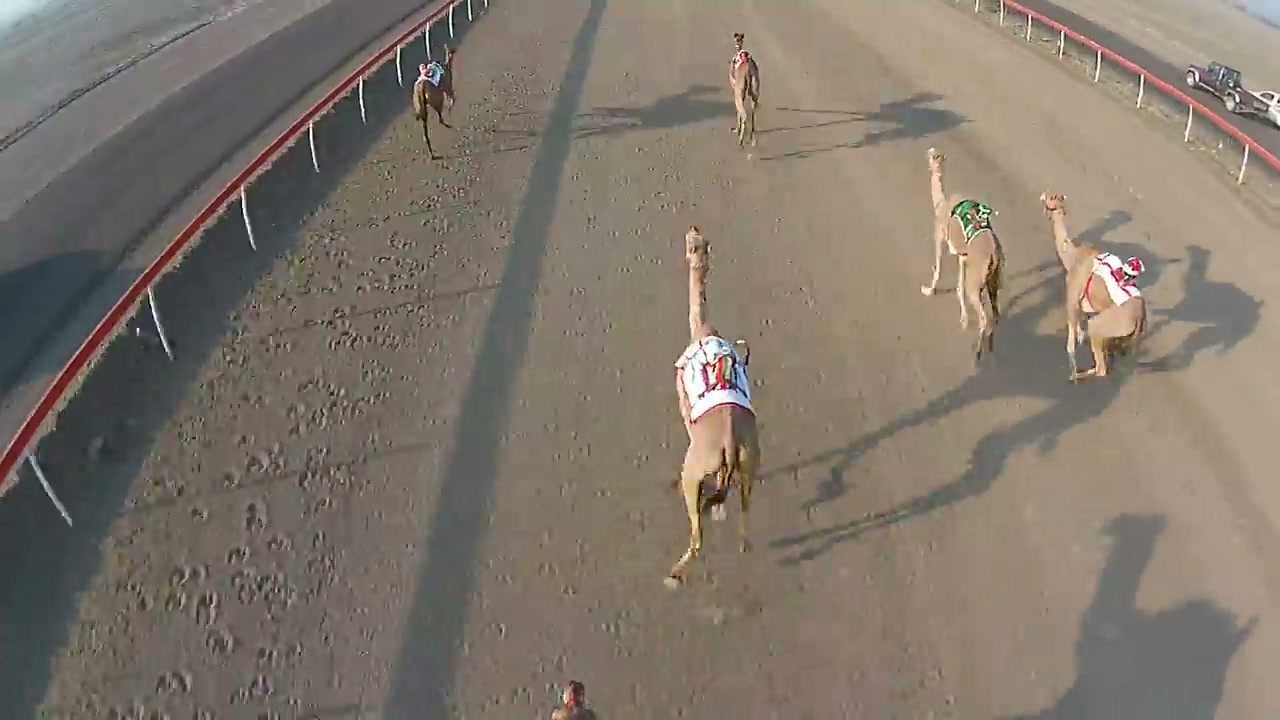animal_foot_print: (149, 184, 464, 715)
